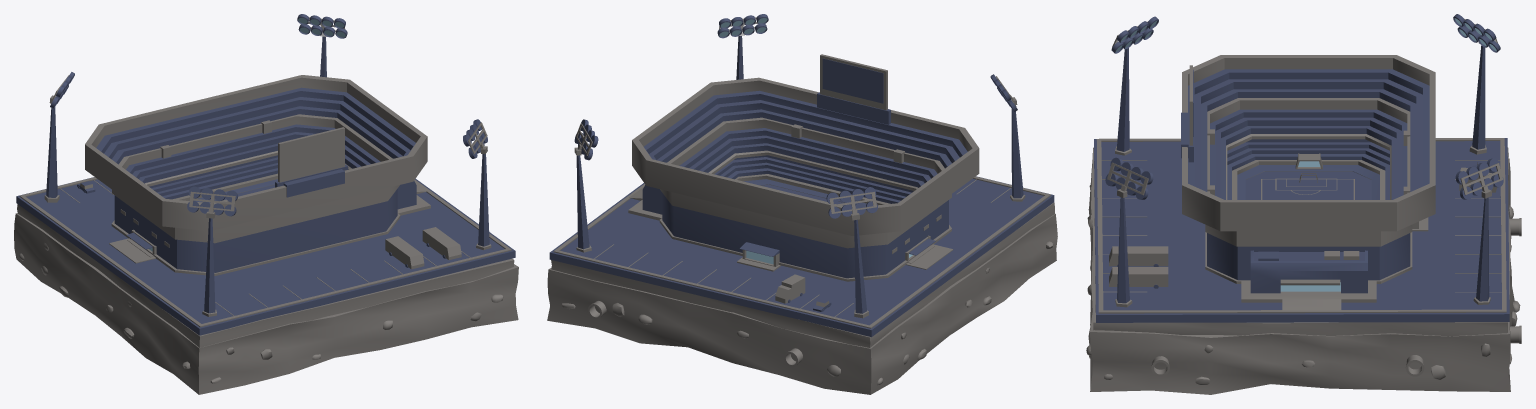
File: Cartoon_Low_Poly_City_Stadium.glb
The picture shows the model from 3 angles, left to right: view 1: azimuth 30°, elevation 25°; view 2: azimuth 150°, elevation 25°; view 3: azimuth 270°, elevation 25°; orthographic projection. The views are drawn at different scales.
Visible parts, largest first — view 1: Cube_1_Ground_0, Asphalt_Building_Violet.1_0, Floor_1_White_1_0, Floor_1_Building_Violet.4_0, Body_2_Building_Violet.1_0, Floor_White_1_0, Cube_Ground_0, Floor_Building_Violet.3_0, Cube_2_4_White_1_0, Asphalt_1_White_1_0, Body_2_Building_Violet.2_0, Cube_8_White_1_0 (+11 smaller); view 2: Cube_1_Ground_0, Asphalt_Building_Violet.1_0, Floor_1_White_1_0, Floor_1_Building_Violet.4_0, Body_2_Building_Violet.1_0, Floor_White_1_0, Floor_Building_Violet.3_0, Cube_Ground_0, Body_2_Building_Violet.2_0, Asphalt_1_White_1_0, Cube_1_4_3_GUM_0, Cube_3_4_Building_Violet.1_0 (+11 smaller); view 3: Asphalt_Building_Violet.1_0, Cube_1_Ground_0, Floor_1_White_1_0, Floor_1_Building_Violet.4_0, Floor_White_1_0, Floor_Building_Violet.3_0, Cube_Ground_0, Asphalt_1_White_1_0, enter_Building_Violet.1_0 (×2), Body_2_Building_Violet.2_0, Body_2_Building_Violet.1_0, Cube_2_5_Building_Violet_0 (+18 smaller).
Boxes of the visible parts, x1,y1,x2,y2 form: Cube_1_Ground_0: [14, 213, 518, 394]; Asphalt_Building_Violet.1_0: [16, 177, 515, 335]; Floor_1_White_1_0: [85, 75, 427, 230]; Floor_1_Building_Violet.4_0: [96, 87, 415, 164]; Body_2_Building_Violet.1_0: [114, 189, 397, 272]; Floor_White_1_0: [112, 114, 399, 243]; Cube_Ground_0: [17, 204, 514, 347]; Floor_Building_Violet.3_0: [126, 124, 380, 183]; Cube_2_4_White_1_0: [278, 127, 344, 182]; Asphalt_1_White_1_0: [19, 177, 511, 327]; Body_2_Building_Violet.2_0: [149, 155, 277, 199]; Cube_8_White_1_0: [111, 213, 400, 275]; Cube_1_Ground_0: [547, 213, 1057, 394]; Asphalt_Building_Violet.1_0: [549, 176, 1054, 337]; Floor_1_White_1_0: [632, 77, 979, 235]; Floor_1_Building_Violet.4_0: [644, 90, 967, 168]; Body_2_Building_Violet.1_0: [662, 193, 948, 278]; Floor_White_1_0: [660, 117, 951, 248]; Floor_Building_Violet.3_0: [679, 128, 937, 187]; Cube_Ground_0: [551, 202, 1054, 347]; Body_2_Building_Violet.2_0: [714, 155, 913, 203]; Asphalt_1_White_1_0: [553, 176, 1050, 328]; Cube_1_4_3_GUM_0: [822, 58, 883, 103]; Cube_3_4_Building_Violet.1_0: [817, 92, 890, 124]; Asphalt_Building_Violet.1_0: [1094, 138, 1509, 322]; Cube_1_Ground_0: [1088, 158, 1515, 394]; Floor_1_White_1_0: [1182, 55, 1435, 231]; Floor_1_Building_Violet.4_0: [1188, 69, 1429, 191]; Floor_White_1_0: [1205, 98, 1412, 246]; Floor_Building_Violet.3_0: [1210, 109, 1407, 199]; Cube_Ground_0: [1092, 147, 1508, 336]; Asphalt_1_White_1_0: [1096, 138, 1506, 313]; enter_Building_Violet.1_0 (×2): [1250, 250, 1367, 293]; Body_2_Building_Violet.2_0: [1227, 139, 1389, 199]; Body_2_Building_Violet.1_0: [1207, 233, 1410, 280]; Cube_2_5_Building_Violet_0: [1245, 171, 1371, 199].
Bounding box in the file's own units: 1218 × 675 × 1208.
